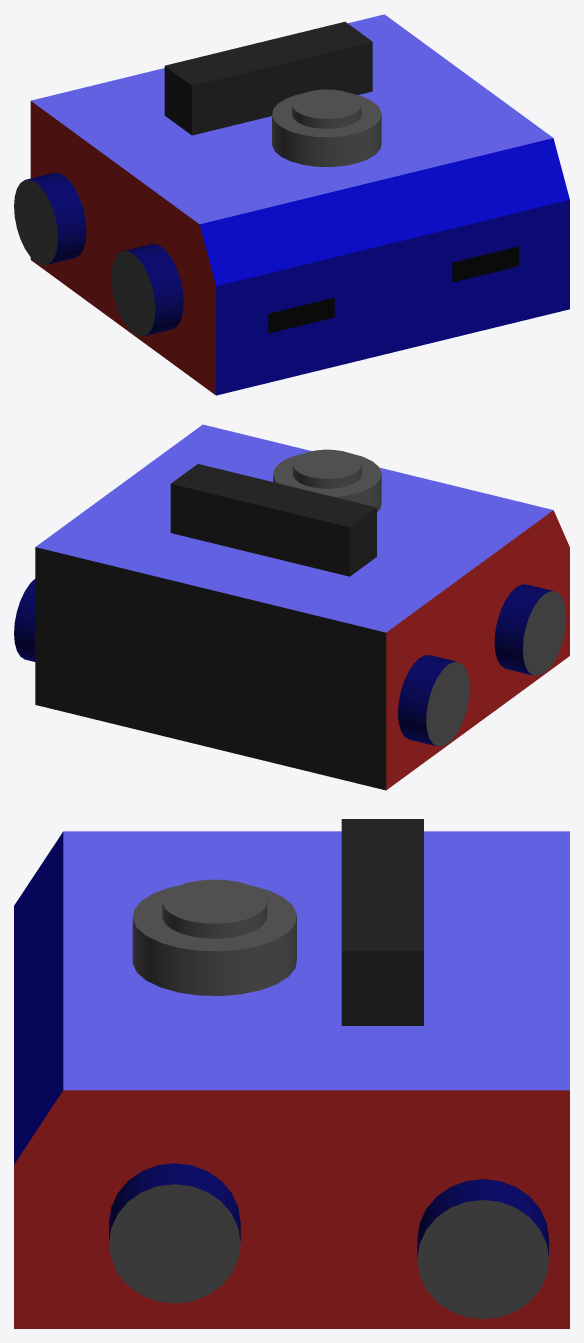
The model's file is ROSBOT_realSize_hover.gltf.
3 views of the same model, one above another, from view 1: azimuth 30°, elevation 25°; view 2: azimuth 150°, elevation 25°; view 3: azimuth 270°, elevation 25° (orthographic). The views are drawn at different scales.
Visible parts, largest first — view 1: root; view 2: root; view 3: root.
Boxes of the visible parts, x1,y1,x2,y2 form: root: [14, 14, 569, 395]; root: [14, 424, 569, 790]; root: [14, 819, 569, 1328].
Bounding box in the file's own units: 0.2411 × 0.1172 × 0.1885.
